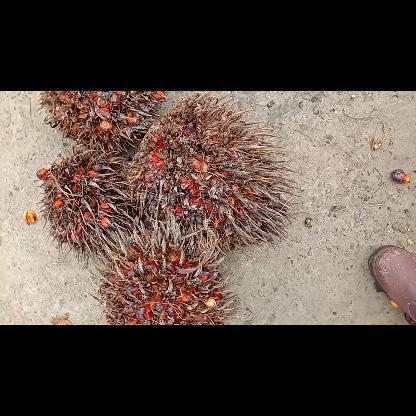Terlalu masak: (124, 91, 307, 263), (84, 218, 244, 324), (36, 147, 144, 269), (37, 91, 167, 159)
